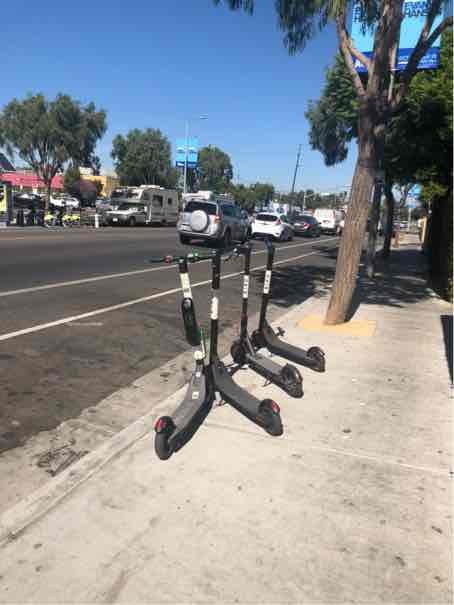scooter: (146, 252, 256, 462)
